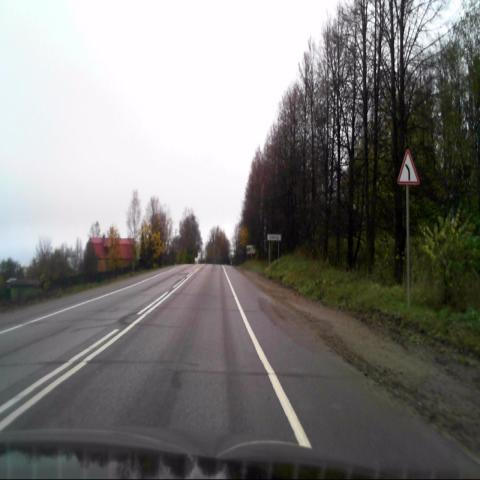1_11_1: (397, 150, 419, 186)
